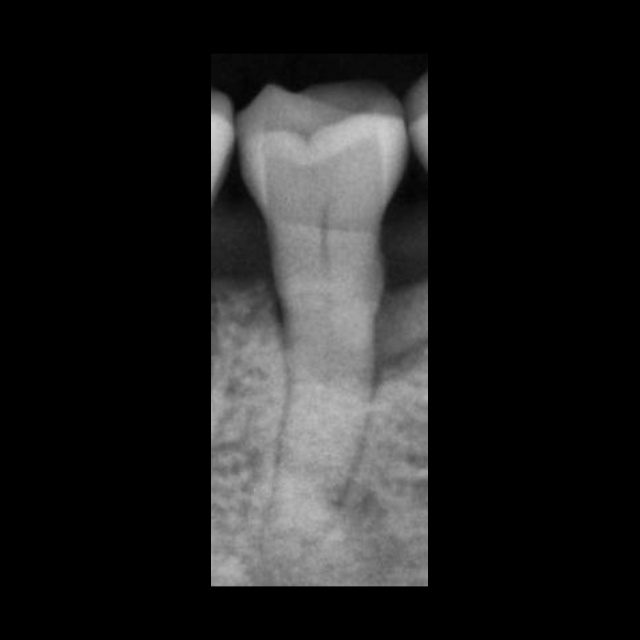tooth: (234, 82, 409, 583)
